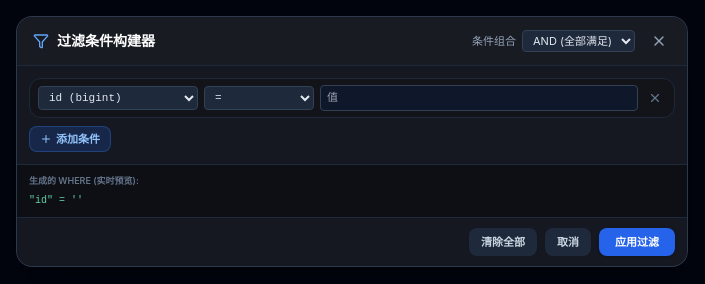
Scenario: WP10: FilterBuilder 组件 (列自动带出 + 类型感知) › 时间列快捷按钮"今天" → BETWEEN 真实日期边界
Select "ordered_at (timestamptz)" in the dropdown named "过滤列" at (118, 98), box [38, 86, 198, 110]
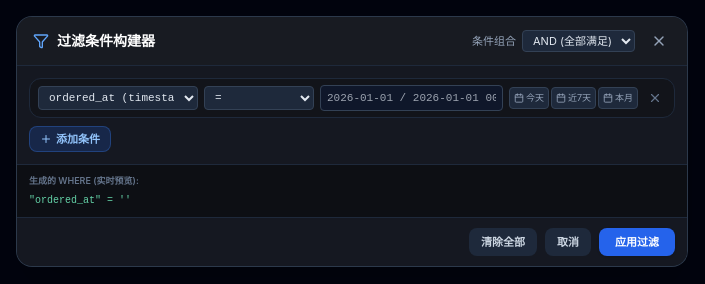
Click the button titled "BETWEEN 今天" at (529, 98), box [509, 87, 549, 109]
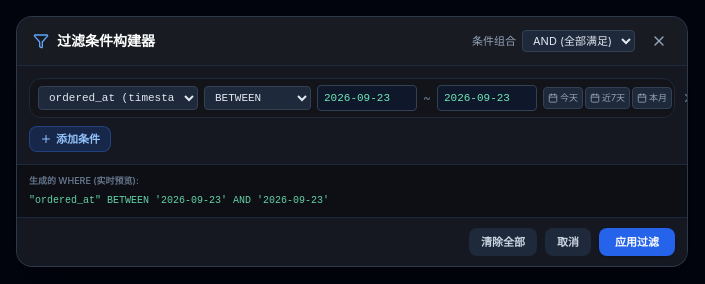
Expected: the text with test id "fb-preview" shows "\"ordered_at\" BETWEEN", [29, 195, 329, 206]
Expected: the text with test id "fb-preview" reads "\"ordered_at\" BETWEEN '2026-09-23' AND '2026-09-23'", [29, 195, 329, 206]
